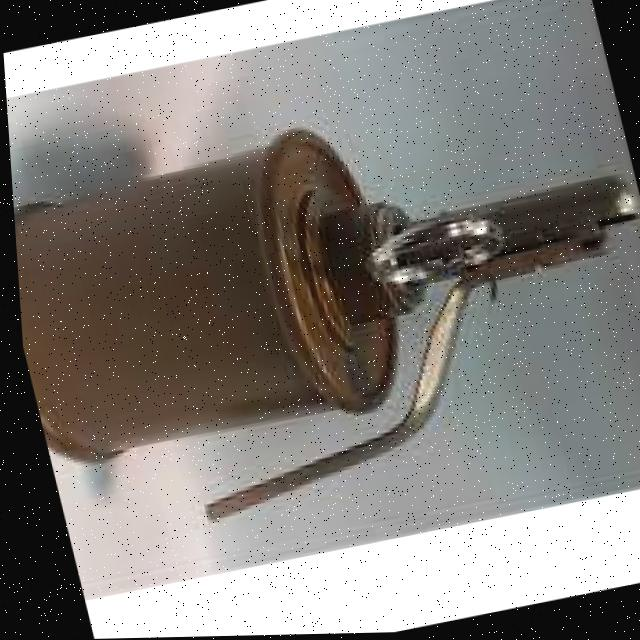grenade: (4, 65, 640, 550)
